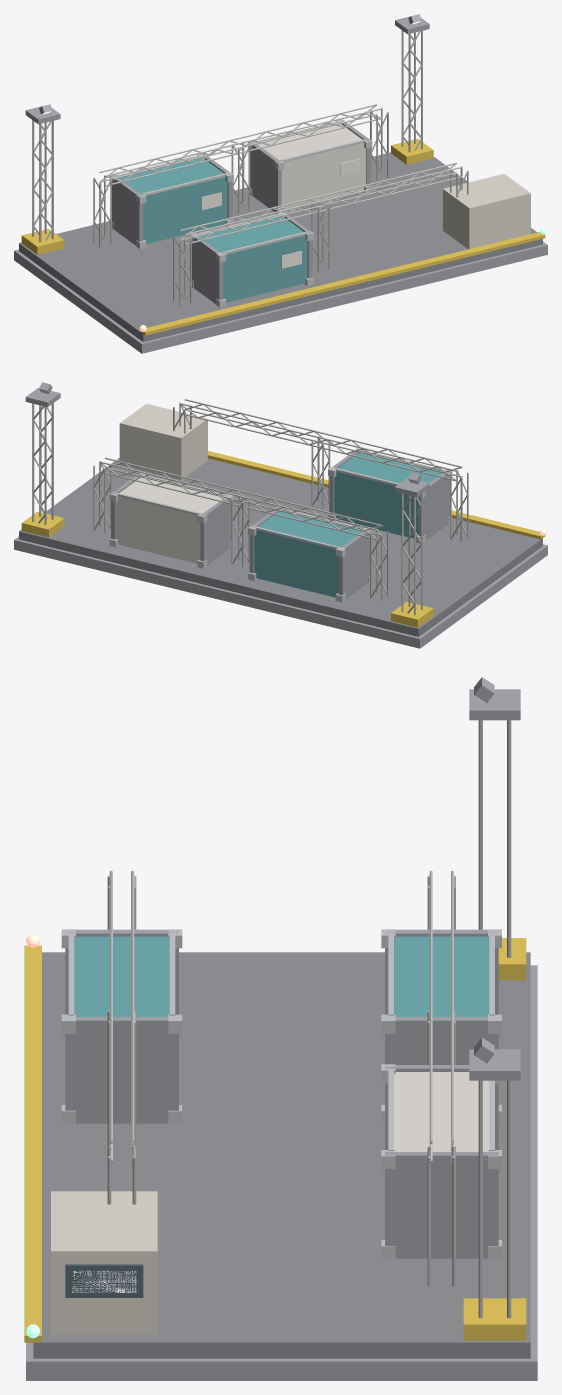
The model's file is freight_platform.glb.
The picture shows the model from 3 angles, top to bottom: view 1: azimuth 30°, elevation 25°; view 2: azimuth 150°, elevation 25°; view 3: azimuth 270°, elevation 25°; orthographic projection. The views are drawn at different scales.
Parts seen in each view (by area): view 1: deck, deck_frame, pod2_body, pod0_body, pod1_body, cab_body, edge_hazard, rackrail_p, rackrail_s, mast-12_col, pod0_enda, pod2_enda (+9 smaller); view 2: deck, deck_frame, pod1_body, pod0_body, cab_body, pod2_body, rackrail_s, rackrail_p, mast12_col, edge_hazard, pod0_enda, pod1_enda (+18 smaller); view 3: deck, deck_frame, cab_body, pod1_endf, pod2_endf, pod0_body, pod2_body, edge_hazard, pod1_body, pod0_endf, cab_glass, mast12_foot (+14 smaller).
Boxes of the visible parts, x1,y1,x2,y2 form: deck: [19, 152, 542, 341]; deck_frame: [14, 242, 547, 353]; pod2_body: [199, 216, 307, 302]; pod0_body: [119, 158, 227, 243]; pod1_body: [258, 124, 366, 209]; cab_body: [443, 174, 530, 249]; edge_hazard: [141, 232, 545, 335]; rackrail_p: [99, 104, 382, 186]; rackrail_s: [179, 162, 462, 245]; mast-12_col: [32, 120, 53, 242]; pod0_enda: [111, 175, 143, 245]; pod2_enda: [191, 234, 223, 304]; deck: [19, 458, 542, 636]; deck_frame: [14, 536, 547, 648]; pod1_body: [115, 477, 223, 563]; pod0_body: [254, 511, 362, 597]; cab_body: [119, 403, 207, 479]; pod2_body: [334, 453, 442, 538]; rackrail_s: [179, 399, 462, 481]; rackrail_p: [99, 457, 382, 539]; mast12_col: [32, 403, 53, 524]; edge_hazard: [208, 451, 545, 539]; pod0_enda: [338, 528, 369, 598]; pod1_enda: [200, 498, 231, 565]; deck: [33, 952, 530, 1358]; deck_frame: [26, 965, 537, 1380]; cab_body: [51, 1191, 157, 1334]; pod1_endf: [385, 1152, 498, 1258]; pod2_endf: [65, 1017, 178, 1123]; pod0_body: [394, 936, 489, 1016]; pod2_body: [74, 936, 169, 1016]; edge_hazard: [24, 945, 41, 1342]; pod1_body: [394, 1072, 489, 1151]; pod0_endf: [385, 1017, 498, 1064]; cab_glass: [65, 1264, 143, 1297]; mast12_foot: [463, 1298, 526, 1340].
Bounding box in the file's own units: 26.4 × 9.98 × 14.45.
